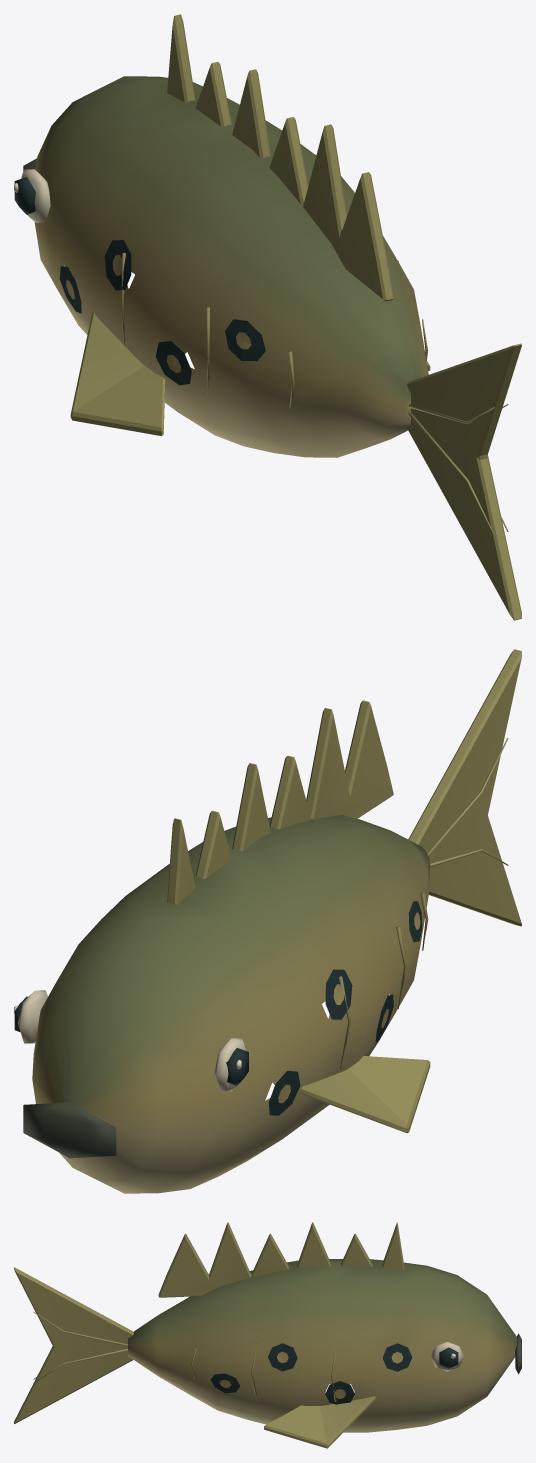
Rendered from fish_mandarin_fish.glb.
The picture shows the model from 3 angles, top to bottom: view 1: azimuth 30°, elevation 25°; view 2: azimuth 150°, elevation 25°; view 3: azimuth 270°, elevation 25°; orthographic projection. The views are drawn at different scales.
Size of the model in its own units: 0.155 by 0.1592 by 0.3596.
